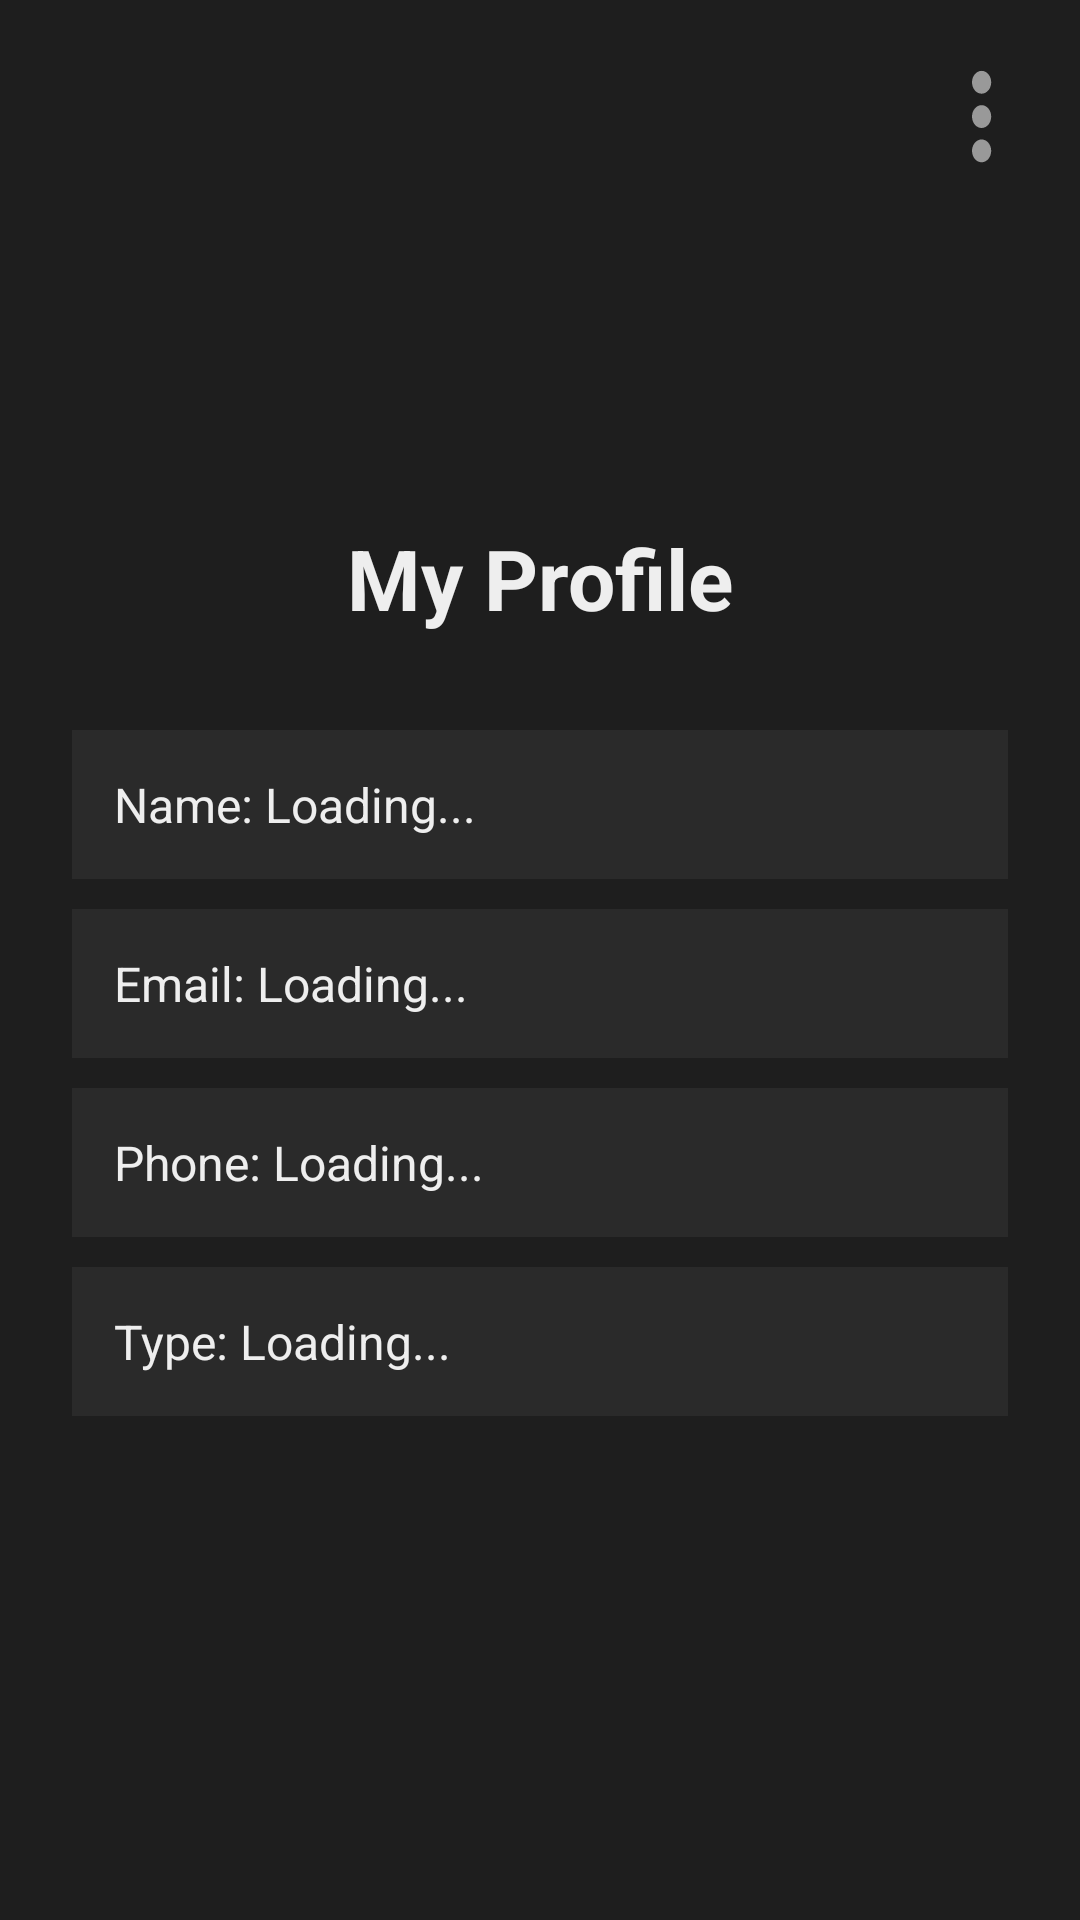

Where to tap for icons on this 1080w x 1920h app screen, as [x,y]:
More options: [982,117]
